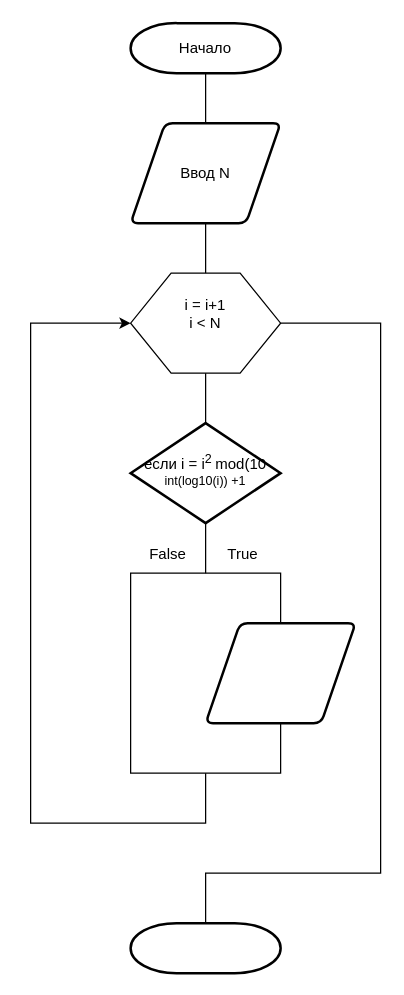
This 404x995 diagram has some shape labels left out. The shapes that lost their labels are listed below. From the top down, each one's centre as x and y in pixels, then its label:
(280,672): Вывод i
(205,947): Конец
